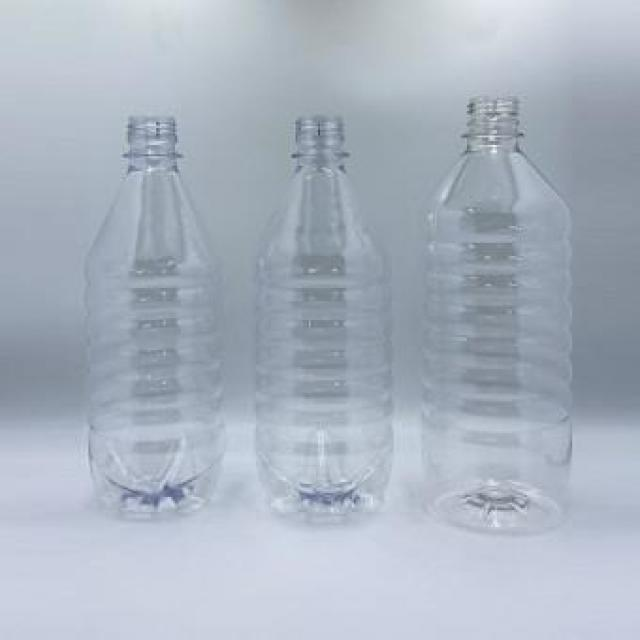bottle: (412, 88, 589, 549), (67, 97, 242, 539), (246, 96, 404, 549)
